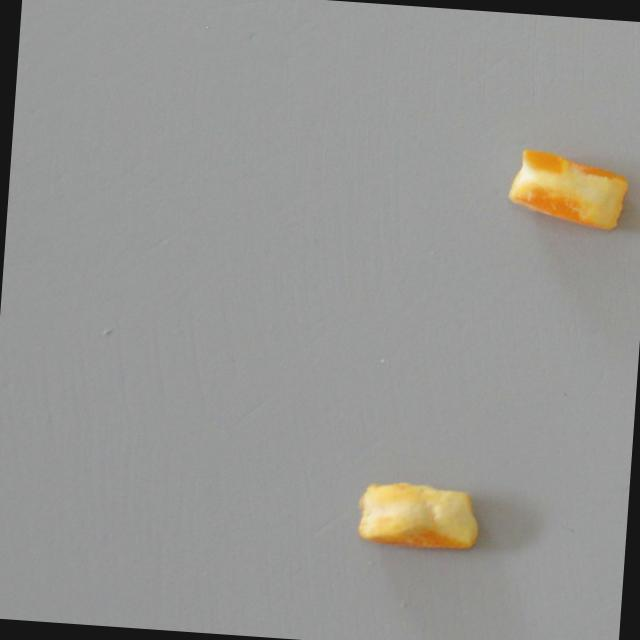pelicula: (349, 466, 487, 558), (510, 148, 632, 239)
